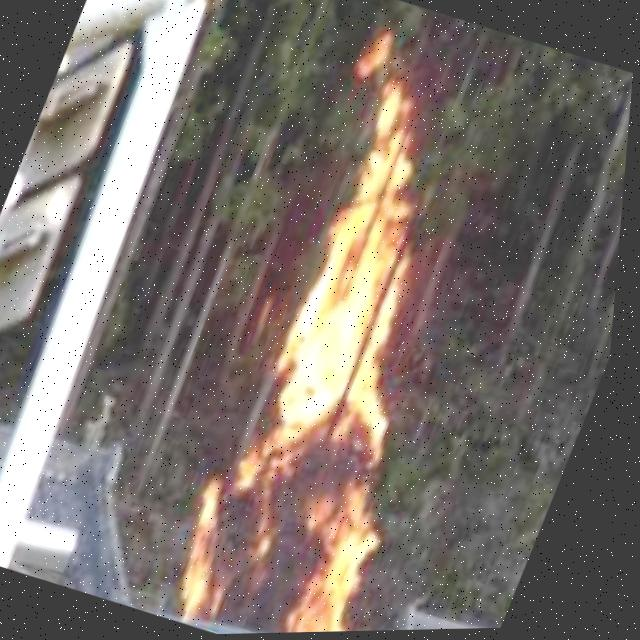Fire: (165, 48, 569, 636)
